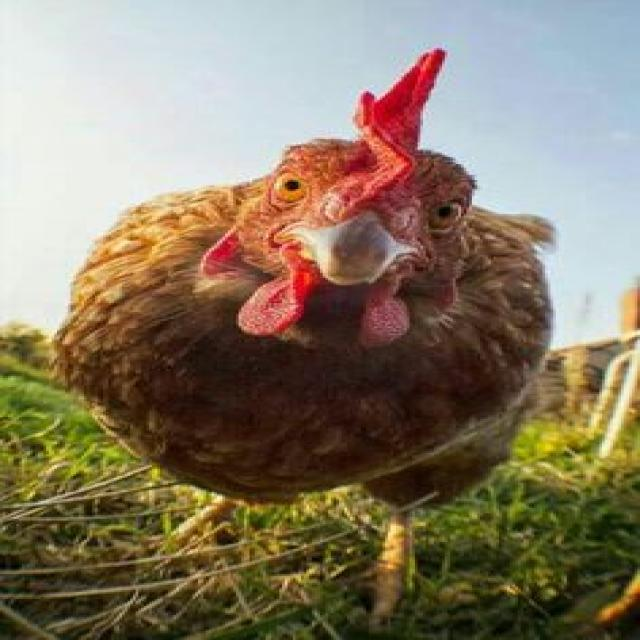Herbivorous: (49, 48, 553, 629)
